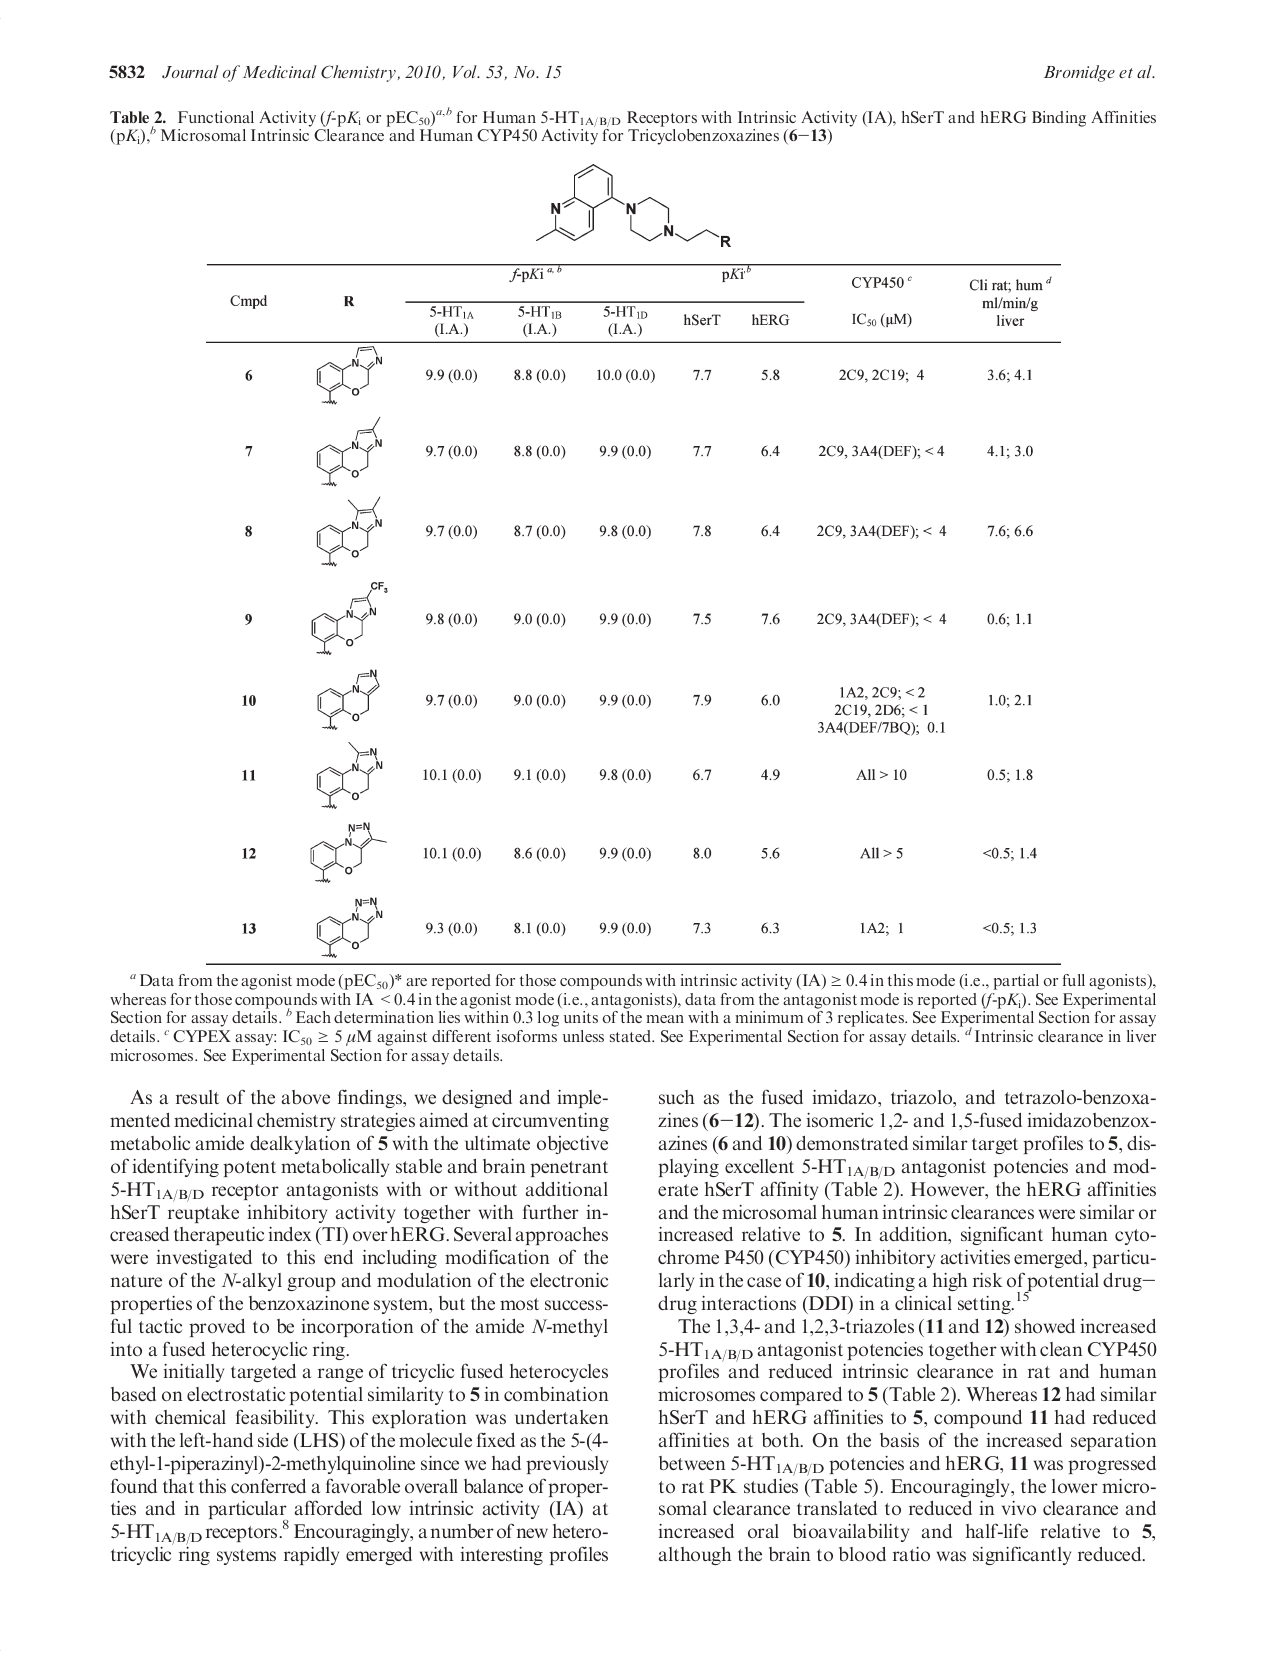exist_molecular: (532, 161, 734, 251), (307, 575, 390, 656), (311, 415, 387, 487), (314, 492, 384, 568), (309, 818, 388, 884), (314, 739, 386, 810), (314, 894, 387, 959), (314, 664, 382, 733), (314, 344, 384, 407)
